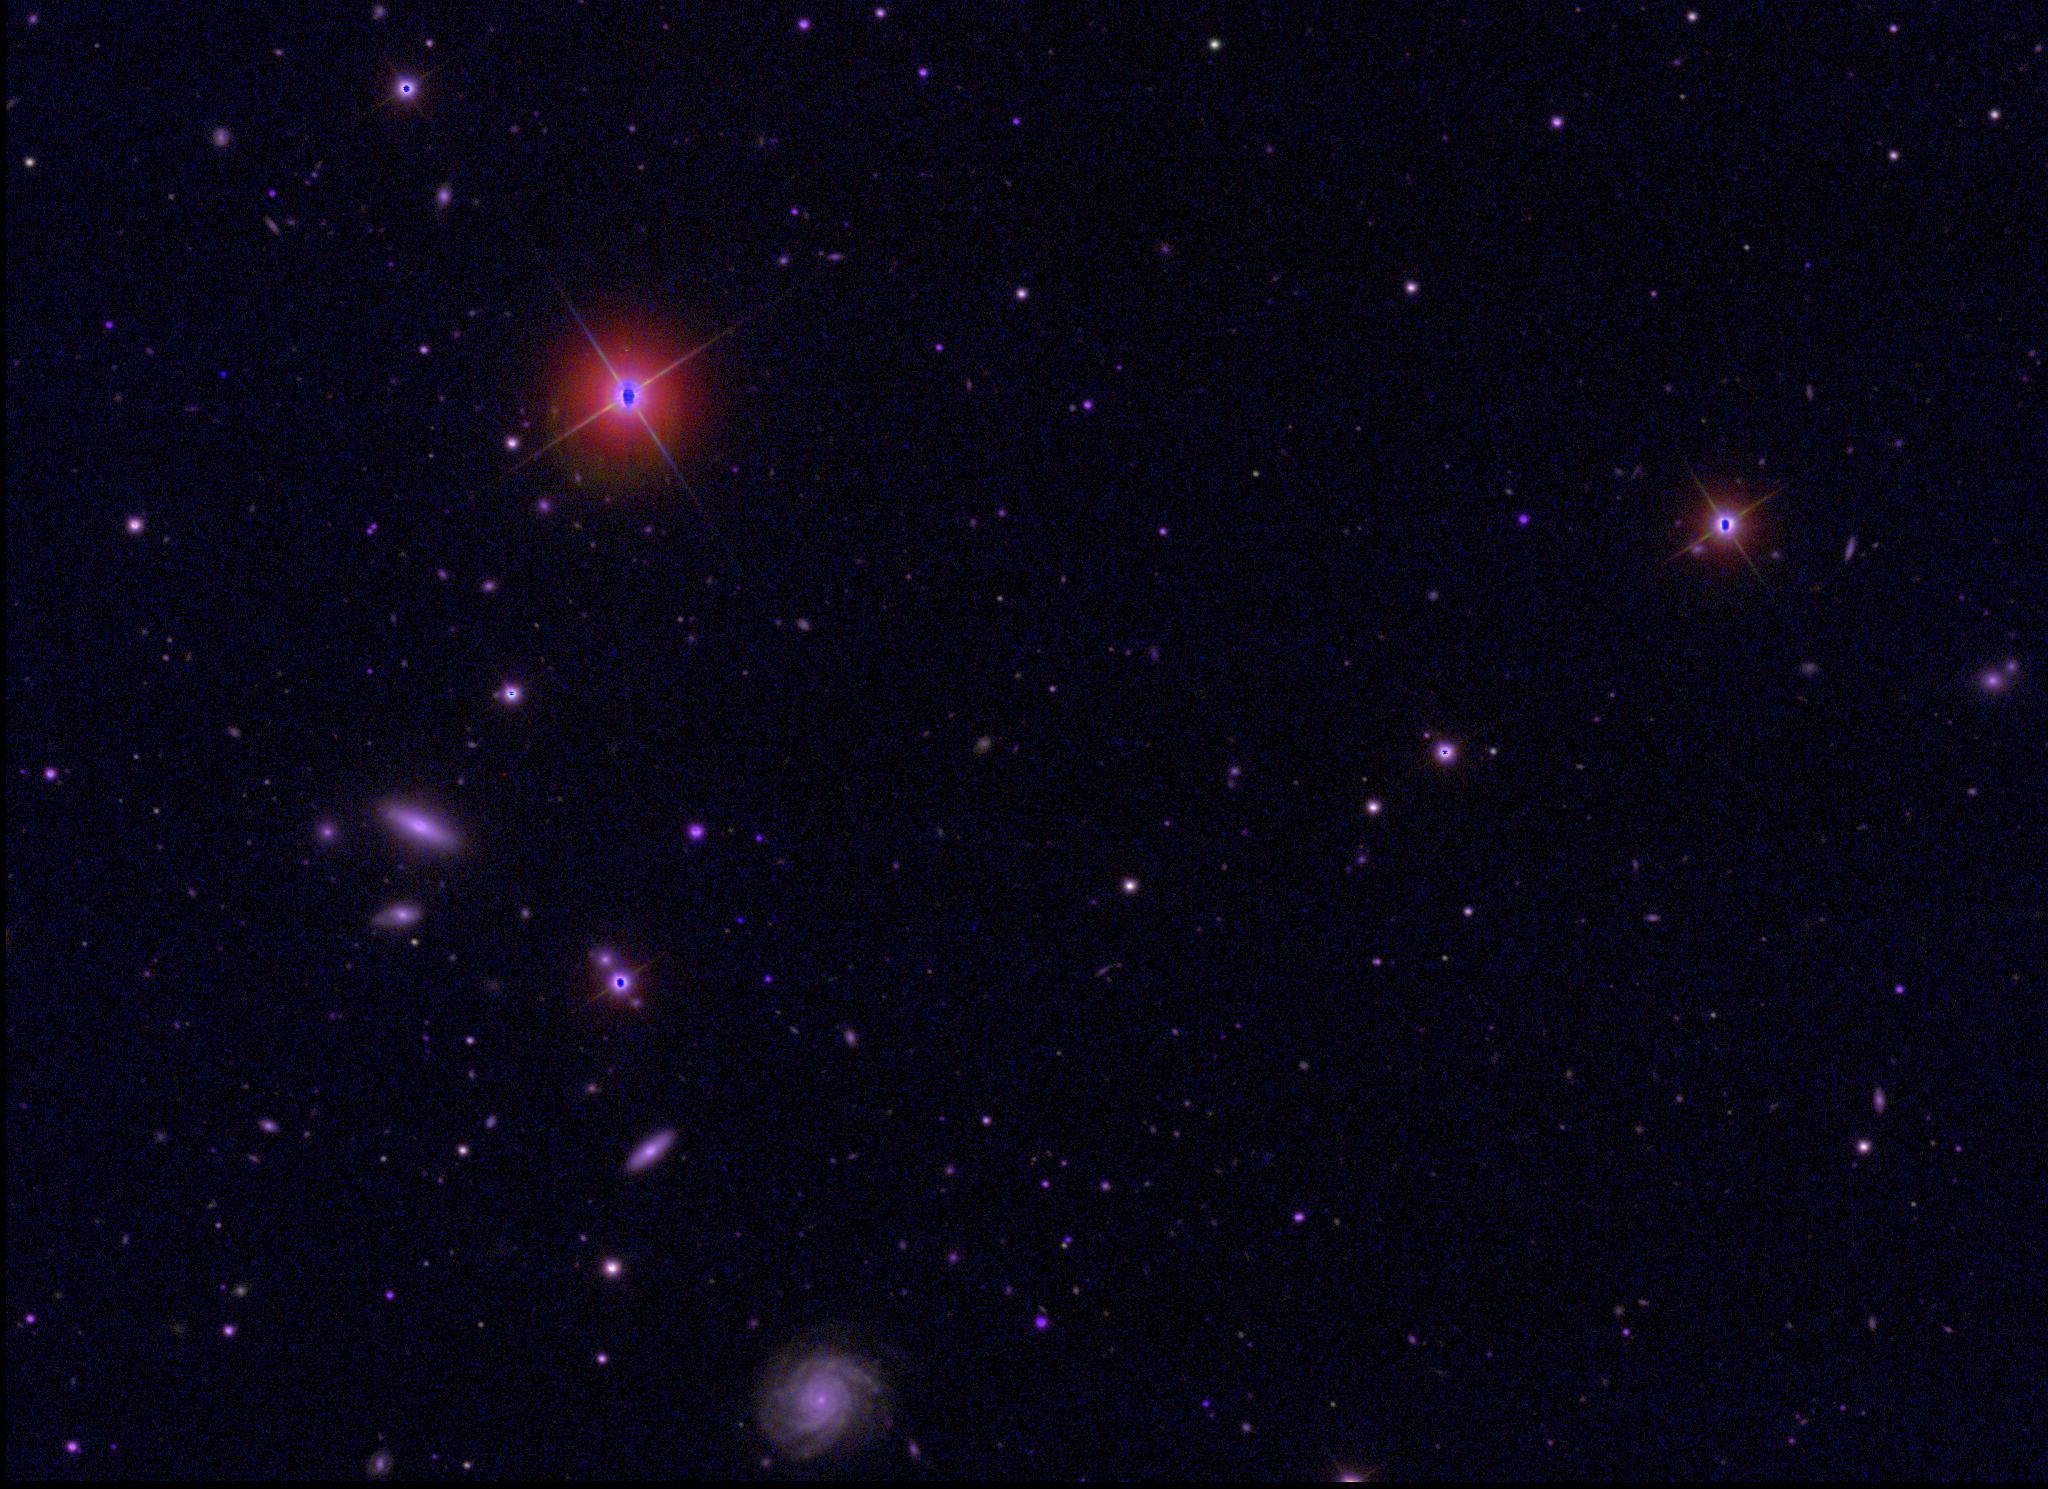L: (216, 367, 231, 382)
